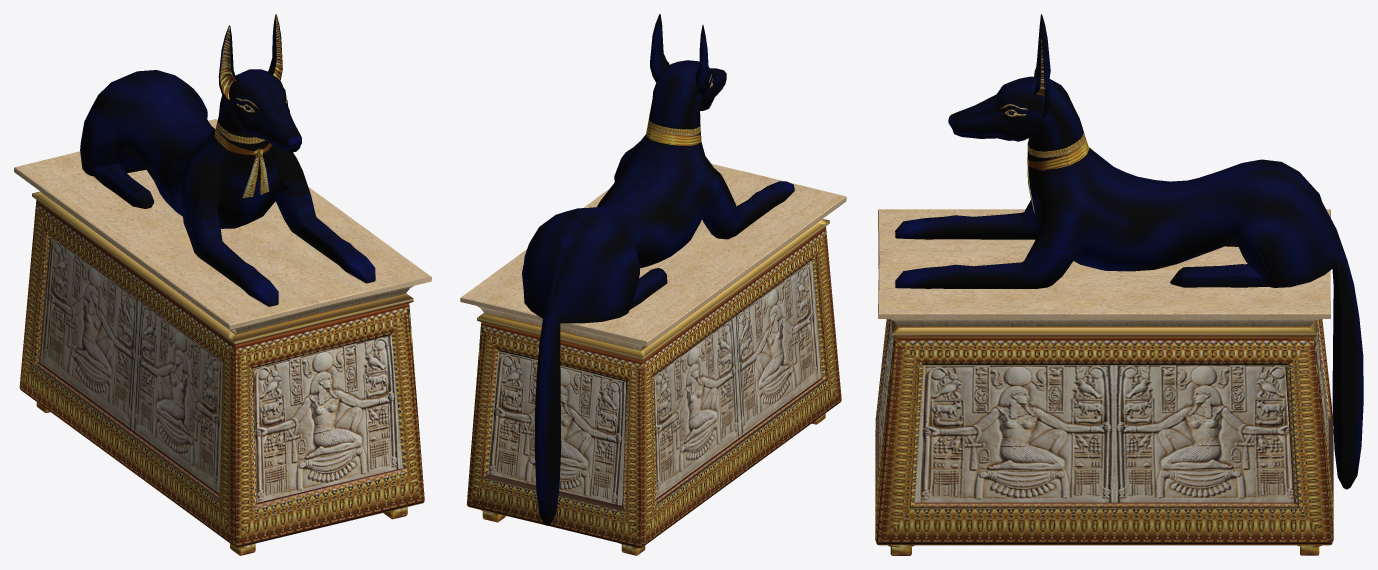
The model's file is Annubis.FBX.
3 views of the same model, side by side, from view 1: azimuth 30°, elevation 25°; view 2: azimuth 150°, elevation 25°; view 3: azimuth 270°, elevation 25° (orthographic). The views are drawn at different scales.
Visible parts, largest first — view 1: Annubis; view 2: Annubis; view 3: Annubis.
Boxes of the visible parts, left/top/right/bottom form: Annubis: left=14, top=14, right=431, bottom=555; Annubis: left=460, top=14, right=846, bottom=555; Annubis: left=875, top=14, right=1363, bottom=555.
Size of the model in its own units: 1353 by 2972 by 2698.
Materials: 2 (2 with a texture image).
